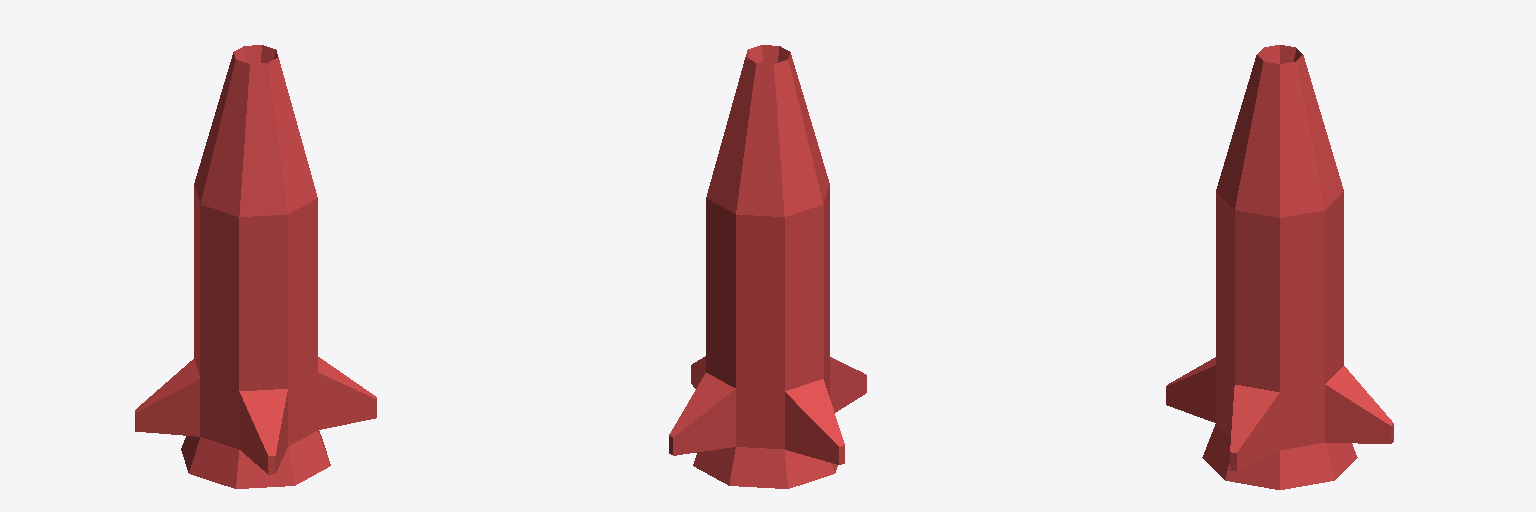
Rendered from missile.obj.
3 renders of one model, left to right at view 1: azimuth 30°, elevation 25°; view 2: azimuth 150°, elevation 25°; view 3: azimuth 270°, elevation 25°, orthographic.
Parts seen in each view (by area): view 1: Cylinder001; view 2: Cylinder001; view 3: Cylinder001.
Part boxes in pixels (bbox=[...]): Cylinder001: bbox=[135, 45, 376, 488]; Cylinder001: bbox=[669, 45, 866, 488]; Cylinder001: bbox=[1166, 45, 1393, 489].
Size of the model in its own units: 3.56 by 6.94 by 3.56.